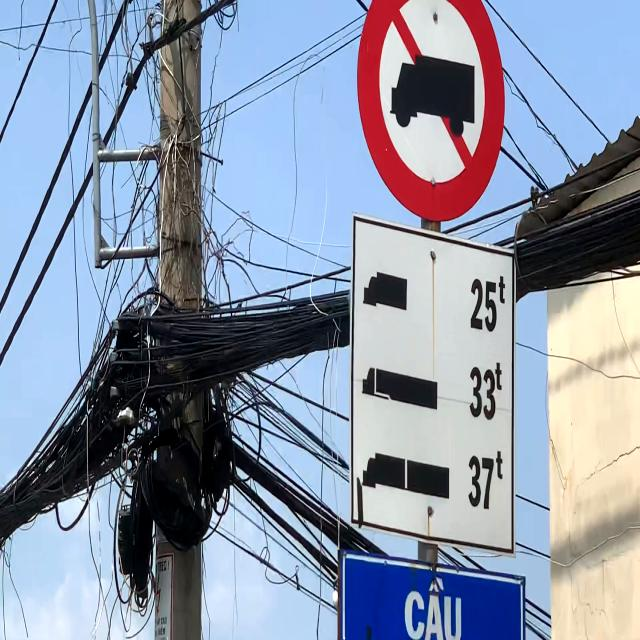P.106a: (355, 0, 500, 220)
